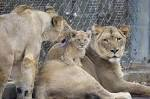lion: (39, 25, 150, 97), (2, 8, 72, 99)
